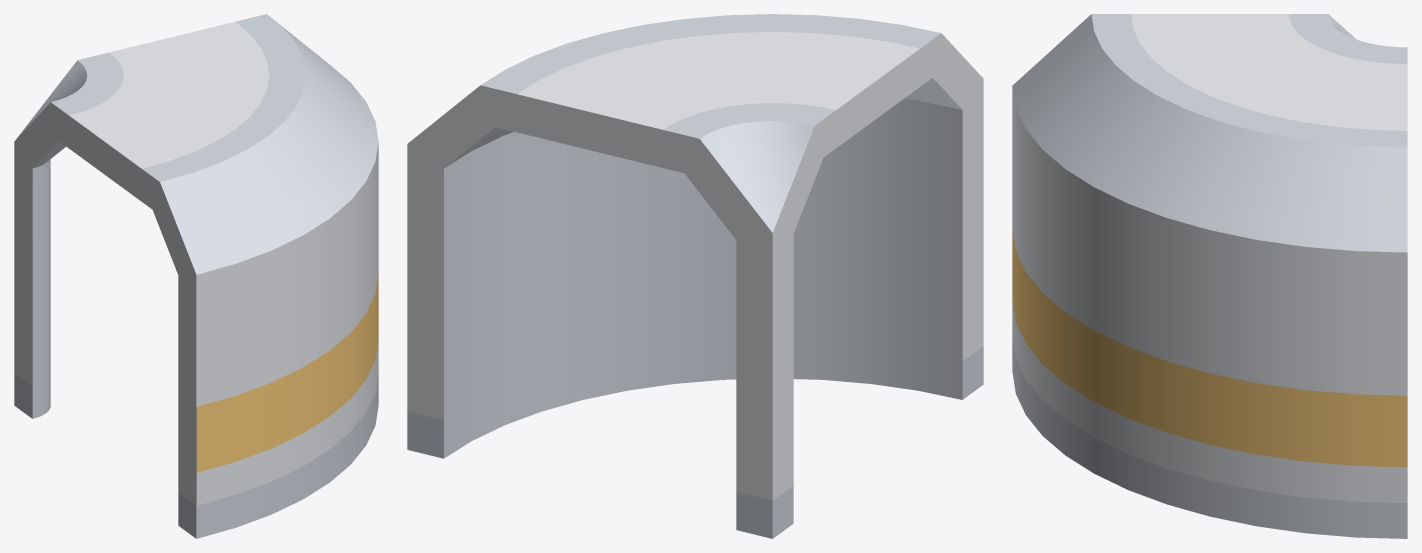
Rendered from corridor_cornerRound.glb.
3 views of the same model, side by side, from view 1: azimuth 30°, elevation 25°; view 2: azimuth 150°, elevation 25°; view 3: azimuth 270°, elevation 25° (orthographic). The views are drawn at different scales.
Visible parts, largest first — view 1: corridor_cornerRound; view 2: corridor_cornerRound; view 3: corridor_cornerRound.
Part boxes in pixels (box(x1,y1,x2,y2)): corridor_cornerRound: box(14, 14, 378, 538); corridor_cornerRound: box(407, 14, 983, 538); corridor_cornerRound: box(1012, 14, 1407, 538).
Size of the model in its own units: 1 by 1 by 1.
